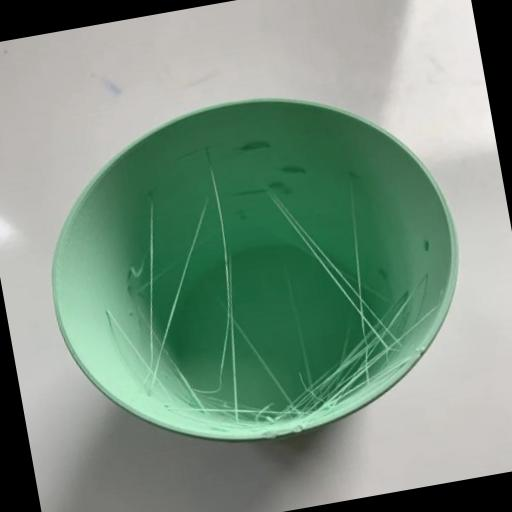stringing: (262, 179, 406, 359), (277, 291, 424, 416), (143, 198, 211, 379), (207, 164, 253, 421)
